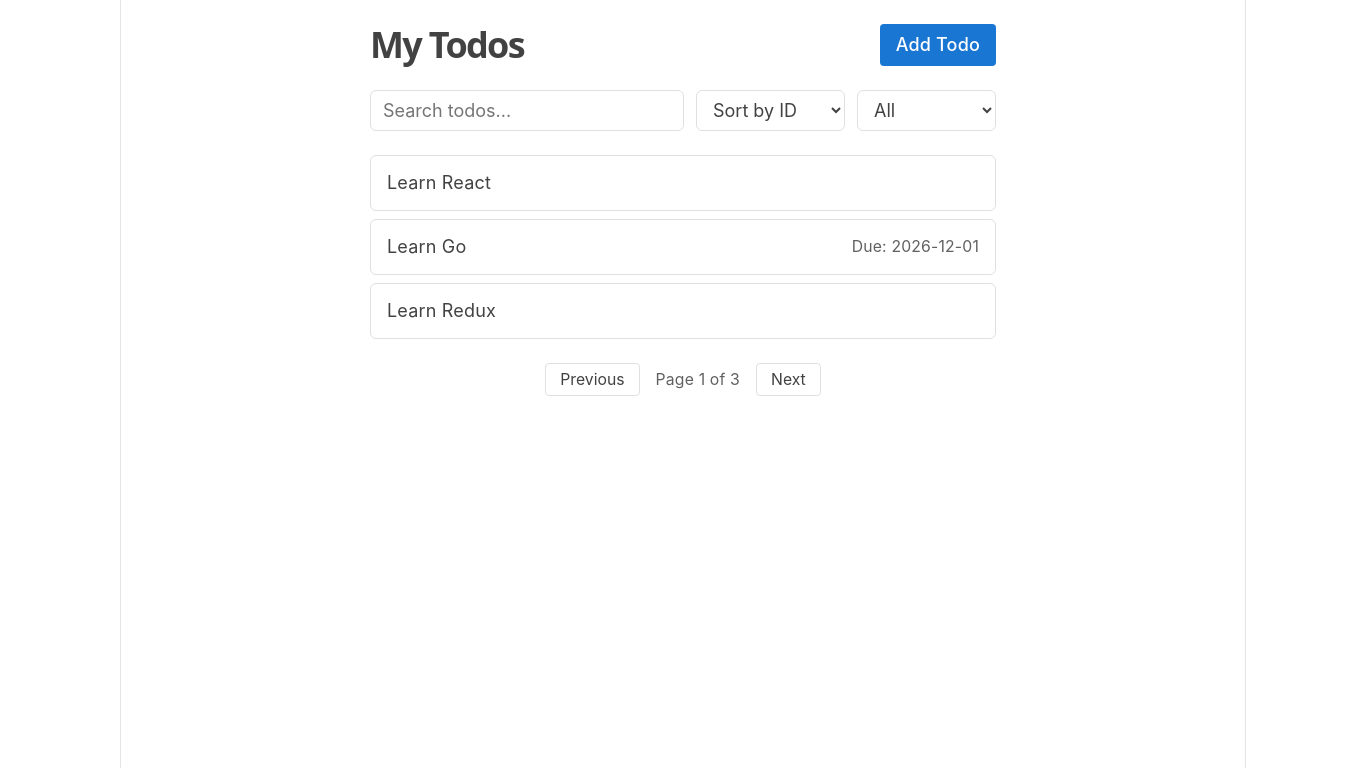
HomePage todo list › disables Next on the last page
Expected: the text "Learn React" is shown, x1=387 y1=170 x2=491 y2=196
Click the button "Next" at (788, 380), box x1=756 y1=363 x2=821 y2=396
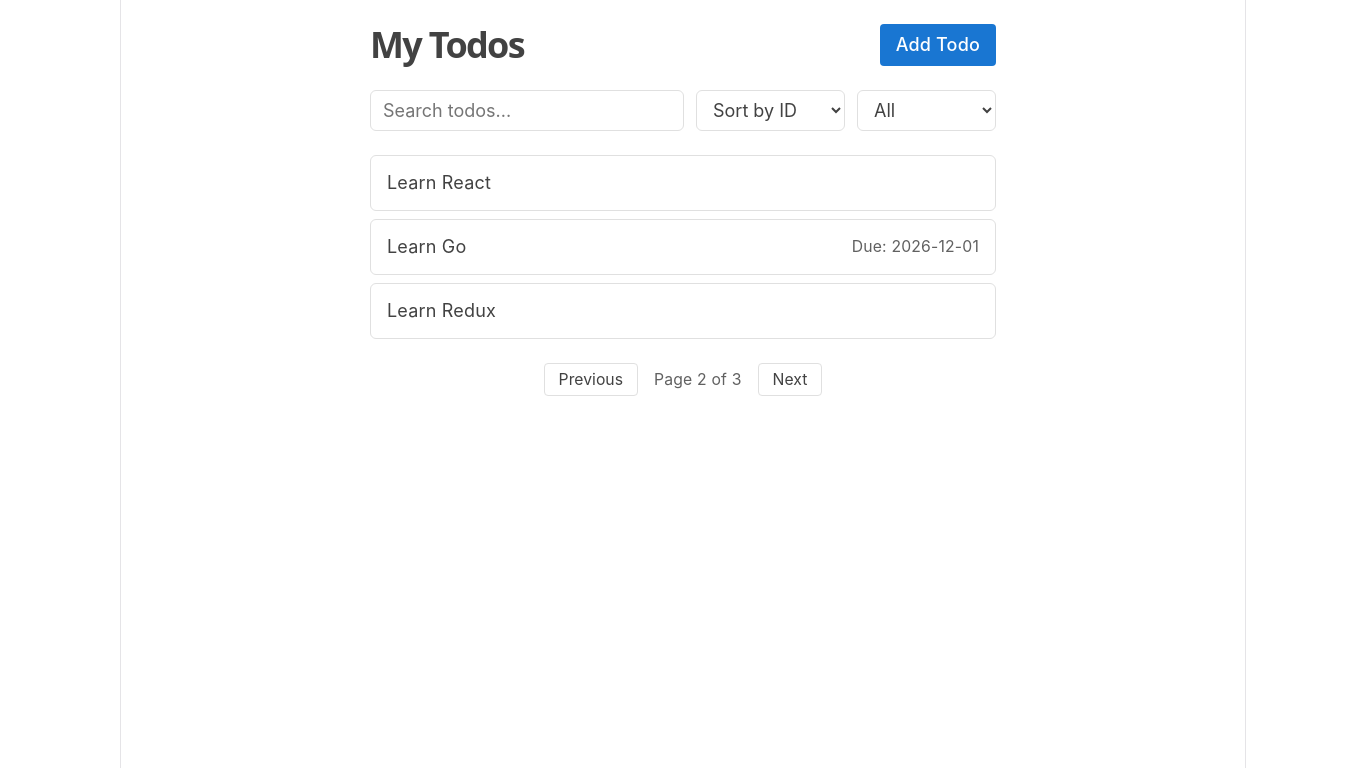
Expected: the text "Page 2 of 3" is shown, x1=654 y1=367 x2=742 y2=393
Click the button "Next" at (790, 380), box x1=758 y1=363 x2=822 y2=396
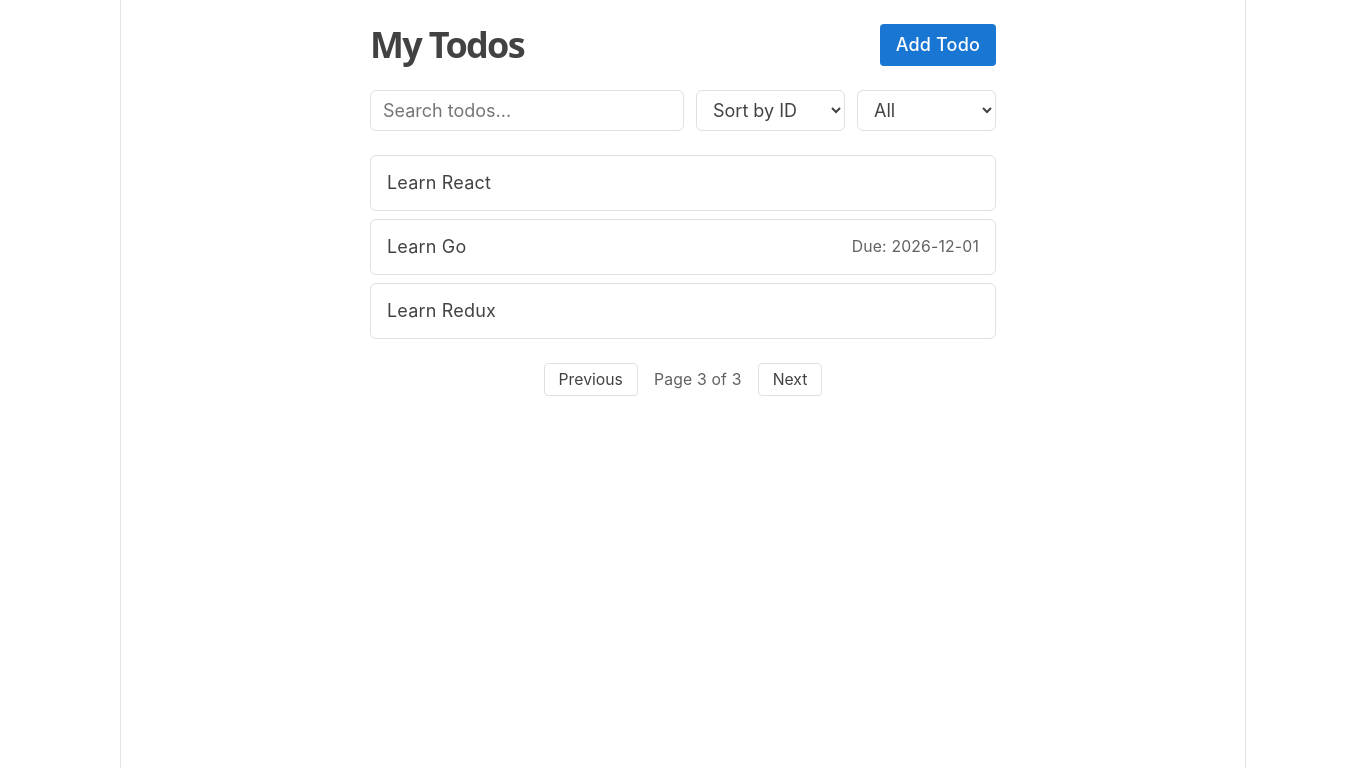
Expected: the text "Page 3 of 3" is shown, x1=654 y1=367 x2=742 y2=393
Expected: the button "Next" is disabled, x1=758 y1=363 x2=822 y2=396
